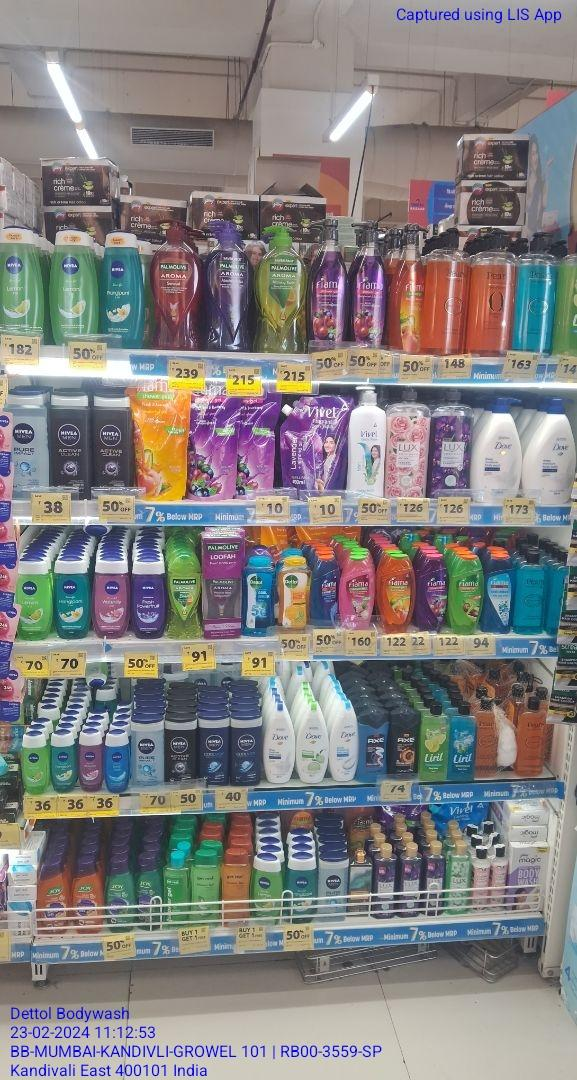Dettol_Bodywash_Cool: (244, 559, 273, 638)
Dettol_Bodywash_Refresh: (279, 559, 308, 633)
Dove_Deep_Moisture_Body_Wash_250ML: (264, 703, 295, 783)
Dove_Gentle_Exfoliating_Body_Wash_250ML: (330, 704, 359, 782)
Dove_Refreshing_Body_Wash_250ML: (296, 705, 328, 783)
Fiama_Shower_Gel_Lemongrass_and_Jojoba_250ML: (452, 557, 484, 633)
Fiama_Shower_Gel_Patchouli_and_Macadamia_250ML: (339, 554, 374, 632)
Fiama_Shower_Gel_Peach_and_Avocado_250ML: (377, 556, 415, 634)
Get_Real_Shower_Gel_Moisturising_Glycerin_300ML: (222, 854, 250, 924)
Joy_Shower_Gel_Mandarin_and_Lemongrass_250ML: (72, 862, 102, 934), (37, 865, 67, 934)
Joy_Shower_Gel_Mint_and_Eucalyptus_250ML: (104, 859, 134, 932), (135, 858, 162, 931)
Liril_Cooling_Mint_Body_Wash_250ML: (451, 706, 475, 781)
Liril_Lime_and_Tea_Tree_Oil_Body_Wash_250ML: (421, 705, 448, 781)
Lux_Black_Orchid_Scent_and_Juniper_Oil_Body_Wash_245ML: (373, 845, 395, 919), (424, 843, 445, 915), (401, 846, 421, 917)
Lux_Body_Wash_Skin_Detox_Freesia_Scent_and_Alove_Vera_245ML: (449, 842, 471, 915)
Nivea_Shower_Gel_Frangipani_and_Oil_250ML: (101, 229, 143, 347), (54, 560, 87, 637), (286, 856, 317, 923)
Nivea_Shower_Gel_Fresh_Powerfruit_250ML: (133, 560, 165, 637)
Nivea_Shower_Gel_Lemon_and_Oil_250ML: (50, 230, 99, 347), (1, 227, 44, 340), (15, 559, 48, 640), (252, 858, 281, 920)
Nivea_Shower_Gel_Waterlily_and_Oil_250ML: (95, 557, 129, 637)
Palmolive_Aroma_Morning_Tonic_Shower_Gel_250ML: (168, 557, 202, 640)
Pears_Pure_Glycerin_and_Mint_Extracts_Body_Wash_250ML: (516, 554, 548, 633)
